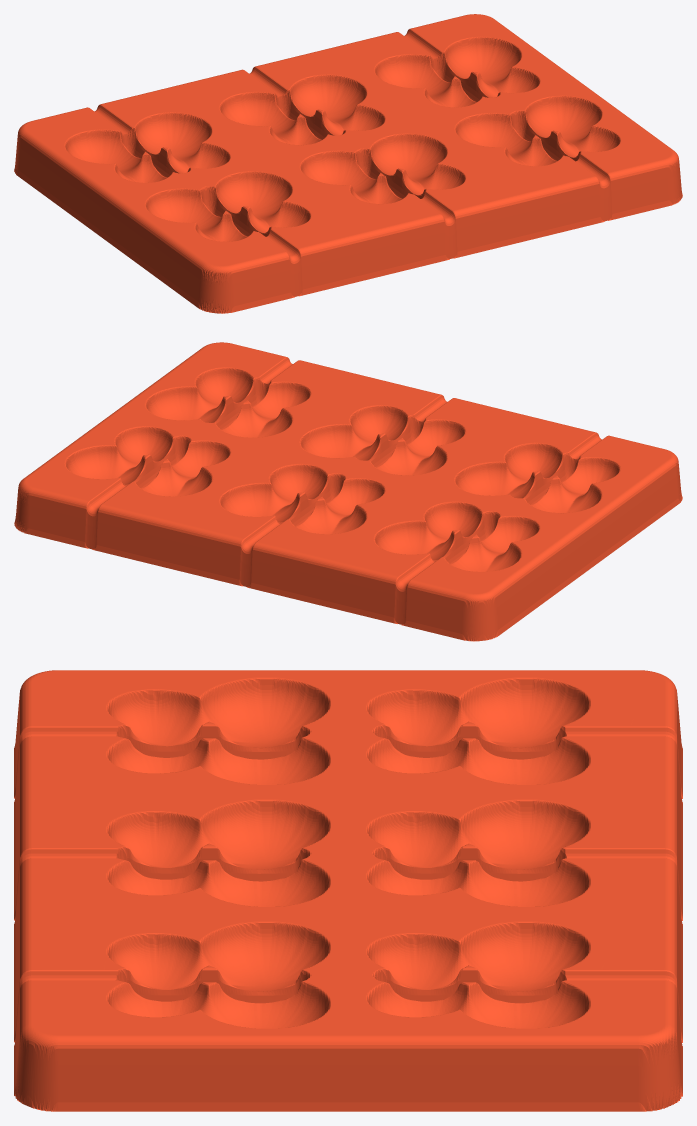
The model's file is mold.glb.
3 renders of one model, top to bottom at view 1: azimuth 30°, elevation 25°; view 2: azimuth 150°, elevation 25°; view 3: azimuth 270°, elevation 25°, orthographic. The views are drawn at different scales.
Parts seen in each view (by area): view 1: geometry_0; view 2: geometry_0; view 3: geometry_0.
Boxes of the visible parts, bbox=[...] form: geometry_0: bbox=[14, 14, 682, 313]; geometry_0: bbox=[14, 342, 682, 641]; geometry_0: bbox=[14, 670, 682, 1111].
Size of the model in its own units: 0.1824 by 0.0155 by 0.136.
